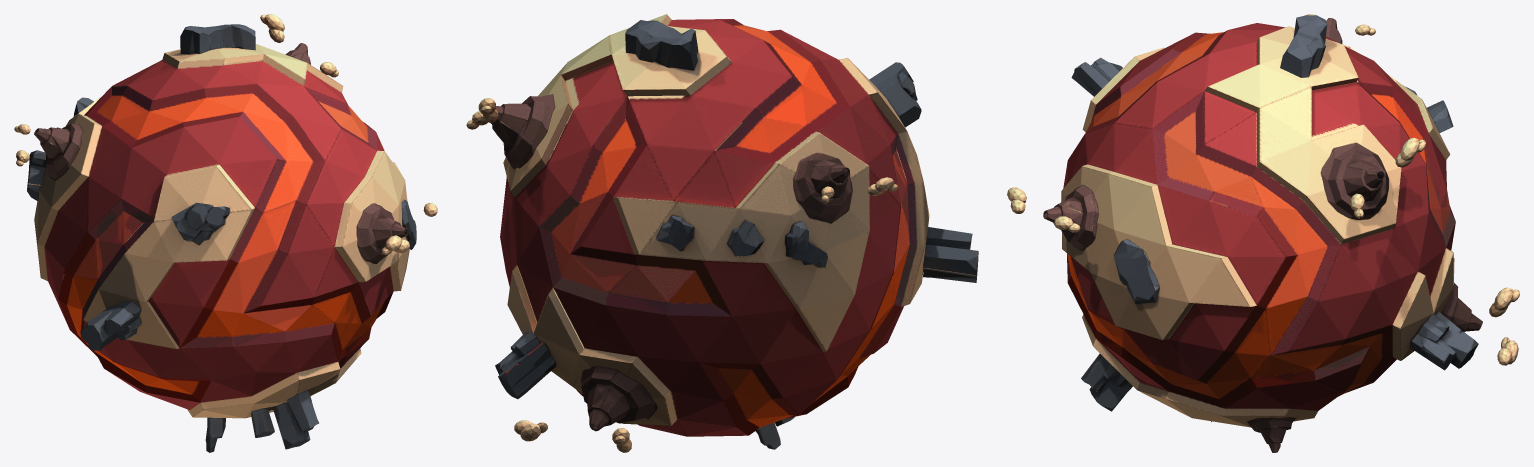
Rendered from venus.obj.
The picture shows the model from 3 angles, left to right: view 1: azimuth 30°, elevation 25°; view 2: azimuth 150°, elevation 25°; view 3: azimuth 270°, elevation 25°; orthographic projection. The views are drawn at different scales.
Visible parts, largest first — view 1: Venus_Model; view 2: Venus_Model; view 3: Venus_Model.
Part boxes in pixels (x1=…): Venus_Model: x1=14, y1=14, x2=437, y2=452; Venus_Model: x1=466, y1=14, x2=978, y2=452; Venus_Model: x1=1007, y1=14, x2=1519, y2=452.
Size of the model in its own units: 2.21 by 2.32 by 2.58.
Materials: 1 (1 with a texture image).
